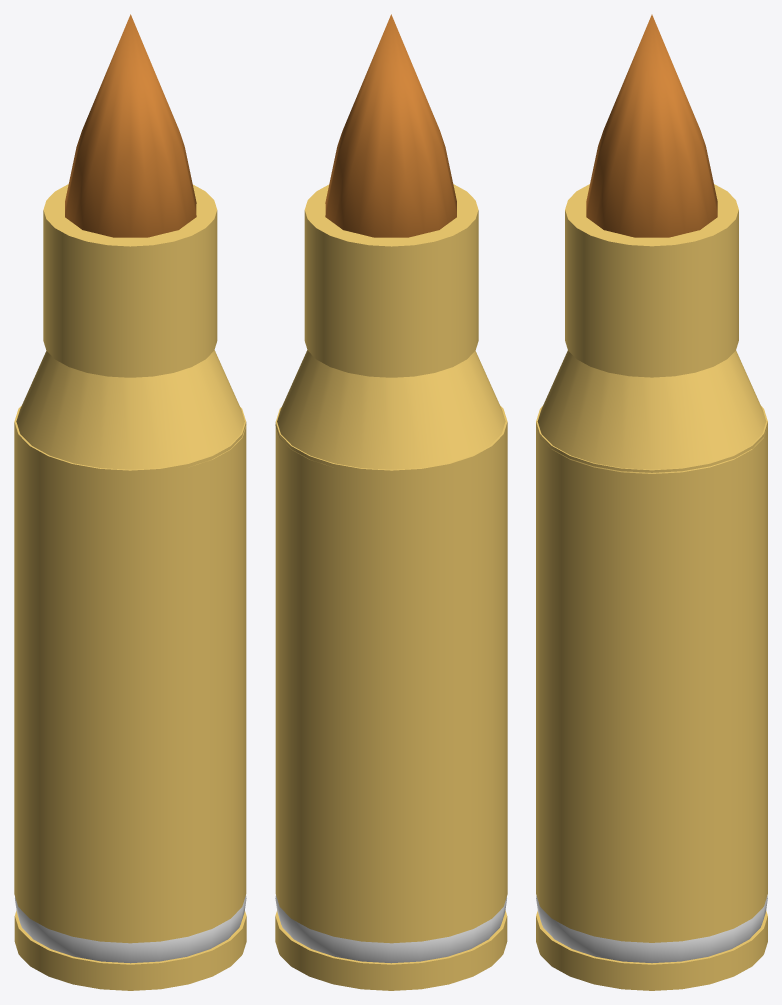
File: 556-rifle-bullet.obj
The picture shows the model from 3 angles, left to right: view 1: azimuth 30°, elevation 25°; view 2: azimuth 150°, elevation 25°; view 3: azimuth 270°, elevation 25°; orthographic projection.
Parts seen in each view (by area): view 1: 5_56_Bullet_Piece_2, Cylinder, 5_56_Bullet_Piece_4, 5_56_Bullet, 5_56_Bullet_Piece_1, 5_56_Bullet_0; view 2: 5_56_Bullet_Piece_2, Cylinder, 5_56_Bullet_Piece_4, 5_56_Bullet, 5_56_Bullet_Piece_1, 5_56_Bullet_0; view 3: 5_56_Bullet_Piece_2, Cylinder, 5_56_Bullet_Piece_4, 5_56_Bullet, 5_56_Bullet_Piece_1, 5_56_Bullet_0.
Boxes of the visible parts, x1,y1,x2,y2 form: 5_56_Bullet_Piece_2: [14, 405, 246, 943]; Cylinder: [43, 184, 217, 377]; 5_56_Bullet_Piece_4: [16, 350, 246, 469]; 5_56_Bullet: [65, 14, 196, 237]; 5_56_Bullet_Piece_1: [14, 910, 246, 990]; 5_56_Bullet_0: [15, 895, 246, 963]; 5_56_Bullet_Piece_2: [275, 405, 507, 943]; Cylinder: [304, 184, 478, 377]; 5_56_Bullet_Piece_4: [275, 350, 505, 469]; 5_56_Bullet: [325, 14, 456, 237]; 5_56_Bullet_Piece_1: [275, 910, 507, 990]; 5_56_Bullet_0: [275, 895, 506, 963]; 5_56_Bullet_Piece_2: [536, 406, 767, 942]; Cylinder: [565, 184, 738, 377]; 5_56_Bullet_Piece_4: [537, 350, 766, 473]; 5_56_Bullet: [586, 14, 717, 237]; 5_56_Bullet_Piece_1: [536, 911, 767, 990]; 5_56_Bullet_0: [536, 896, 767, 963].
Size of the model in its own units: 0.8015 by 3.57 by 0.8.
